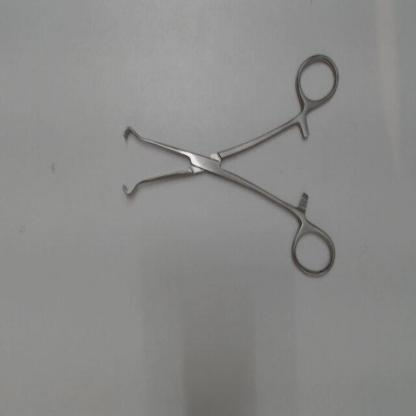Babcock Tissue Forceps: (113, 46, 346, 287)
